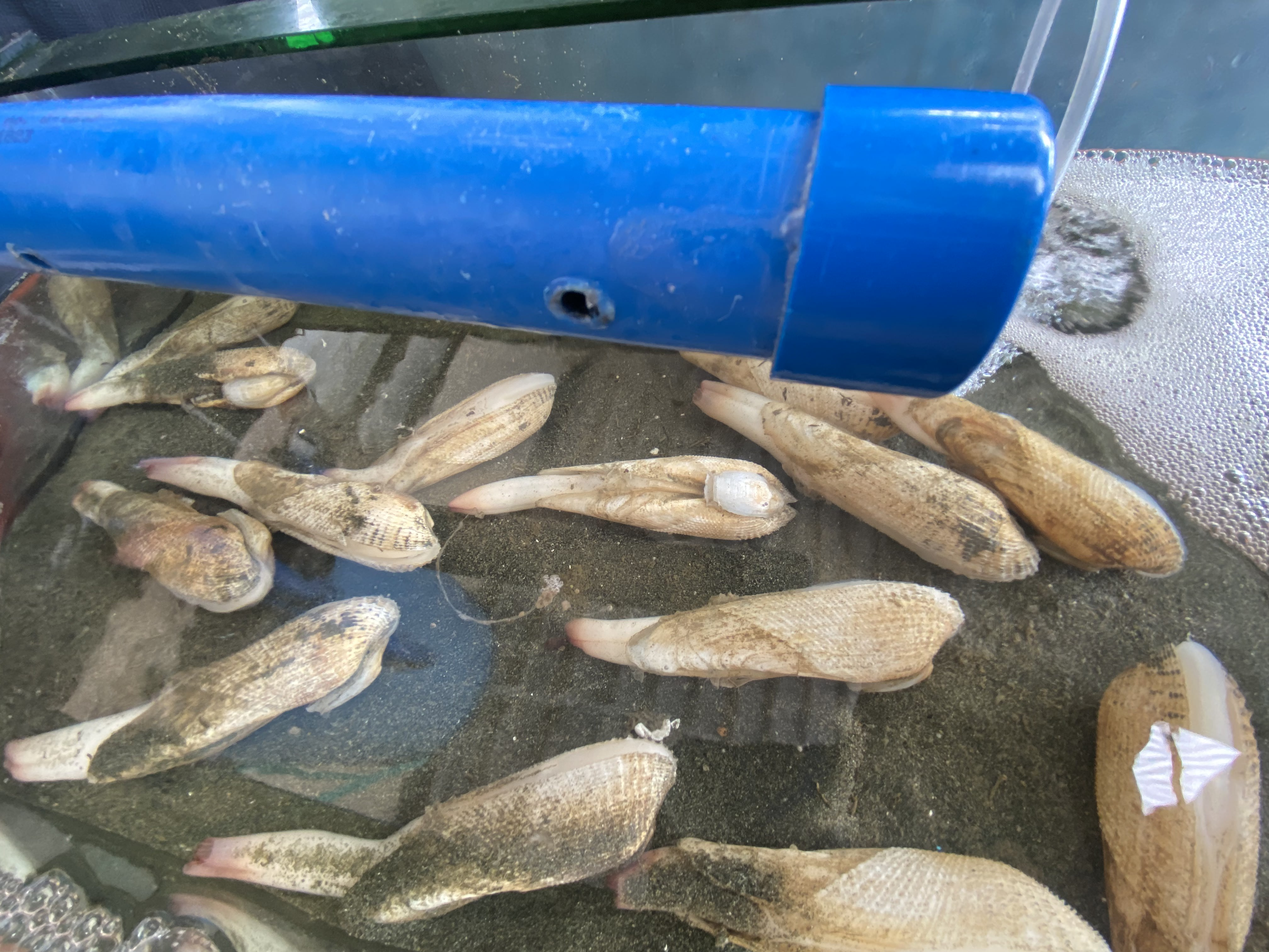Healthy: (184, 739, 675, 925), (4, 596, 399, 783), (694, 380, 1039, 581), (864, 392, 1184, 575), (139, 456, 438, 570), (448, 455, 796, 540), (324, 373, 556, 493), (72, 480, 274, 612), (77, 296, 299, 396), (65, 347, 315, 411), (566, 617, 661, 664), (866, 452, 901, 475)
